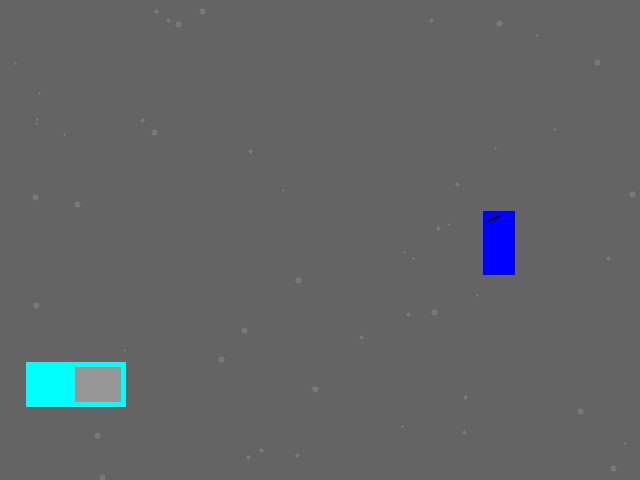motorcycle: (483, 211, 514, 274)
truck: (26, 362, 125, 406)
